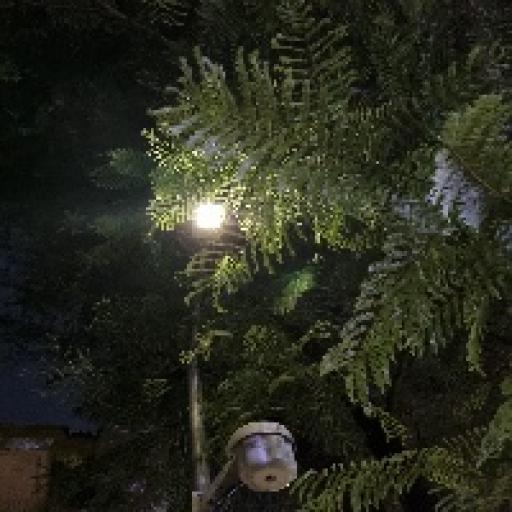Working: (176, 194, 232, 248)
